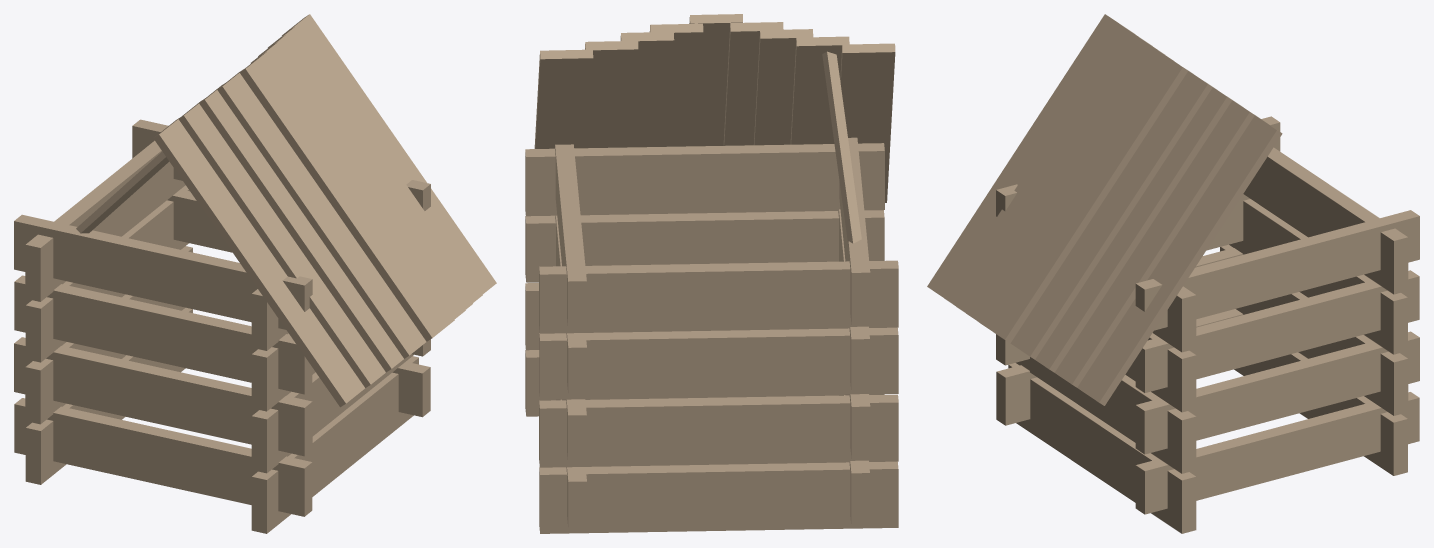
The model's file is compost bin.fbx.
3 views of the same model, side by side, from view 1: azimuth 30°, elevation 25°; view 2: azimuth 150°, elevation 25°; view 3: azimuth 270°, elevation 25° (orthographic). The views are drawn at different scales.
Visible parts, largest first — view 1: 立方体.006; view 2: 立方体.006; view 3: 立方体.006.
Boxes of the visible parts, x1=… form: 立方体.006: x1=14, y1=14, x2=496, y2=533; 立方体.006: x1=525, y1=14, x2=898, y2=533; 立方体.006: x1=927, y1=14, x2=1419, y2=533.
Bounding box in the file's own units: 12.7 × 11.94 × 13.55.
